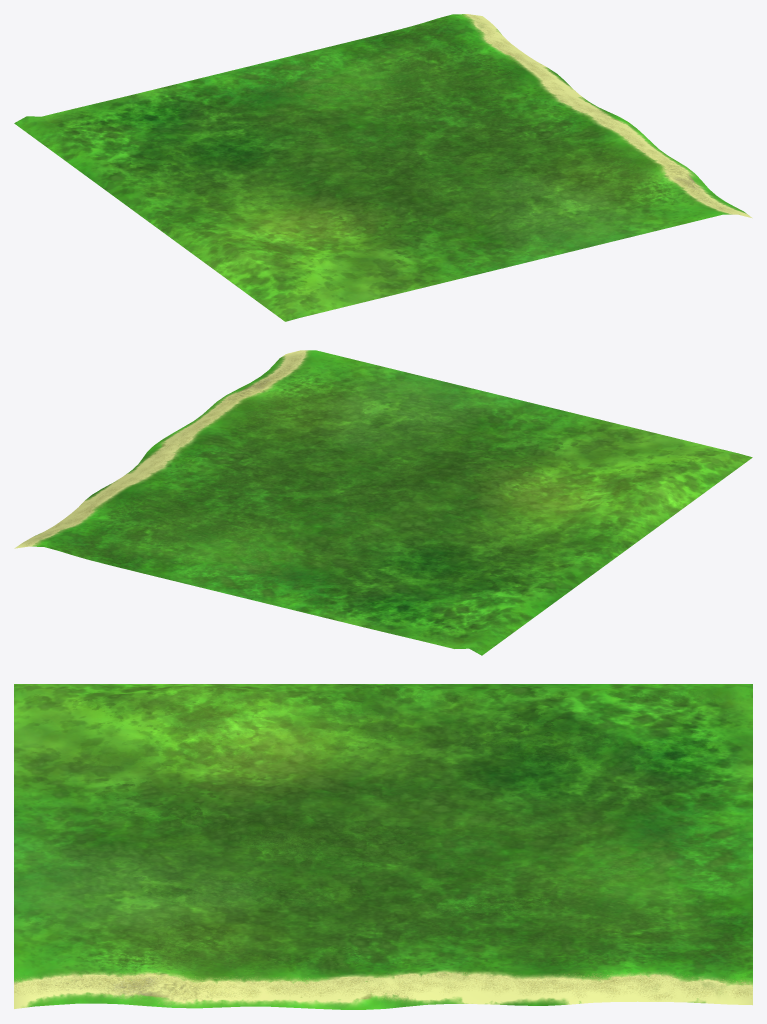
The model's file is TerrainPincipal.obj.obj.
3 views of the same model, one above another, from view 1: azimuth 30°, elevation 25°; view 2: azimuth 150°, elevation 25°; view 3: azimuth 270°, elevation 25° (orthographic). The views are drawn at different scales.
Visible parts, largest first — view 1: Plane.004; view 2: Plane.004; view 3: Plane.004.
Part boxes in pixels (x1=…): Plane.004: x1=14, y1=14, x2=752, y2=321; Plane.004: x1=14, y1=350, x2=752, y2=655; Plane.004: x1=14, y1=684, x2=752, y2=1009.
Bounding box in the file's own units: 20.07 × 0.8531 × 20.
